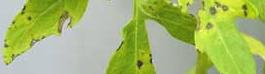Tomato leaf bacterial spot: (3, 0, 121, 68), (168, 0, 262, 74), (103, 6, 161, 74)
